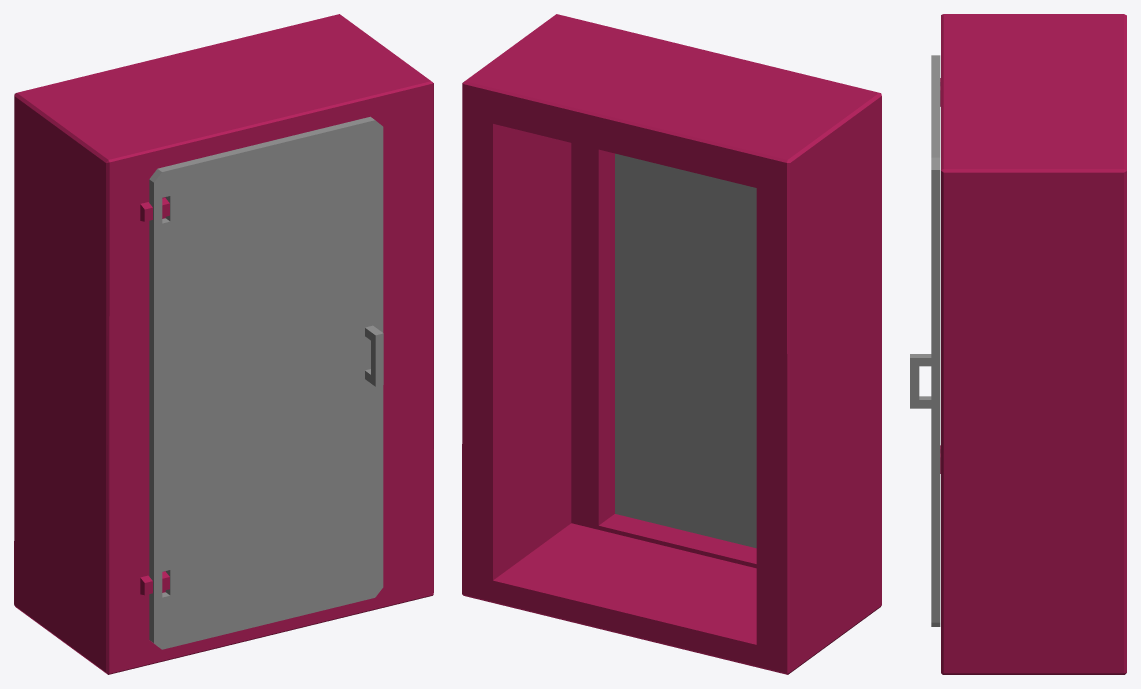
File: Part_House_Door_2X4_simple.FBX
3 views of the same model, side by side, from view 1: azimuth 30°, elevation 25°; view 2: azimuth 150°, elevation 25°; view 3: azimuth 270°, elevation 25° (orthographic).
Parts seen in each view (by area): view 1: Part_House_Door_2X4_simple, Part_House_Door; view 2: Part_House_Door_2X4_simple, Part_House_Door; view 3: Part_House_Door_2X4_simple, Part_House_Door.
Part boxes in pixels (x1=…): Part_House_Door_2X4_simple: x1=14, y1=14, x2=433, y2=674; Part_House_Door: x1=149, y1=116, x2=383, y2=649; Part_House_Door_2X4_simple: x1=462, y1=14, x2=881, y2=674; Part_House_Door: x1=615, y1=153, x2=756, y2=548; Part_House_Door_2X4_simple: x1=940, y1=14, x2=1126, y2=674; Part_House_Door: x1=910, y1=55, x2=940, y2=626.
Bounding box in the file's own units: 400 × 600 × 233.
